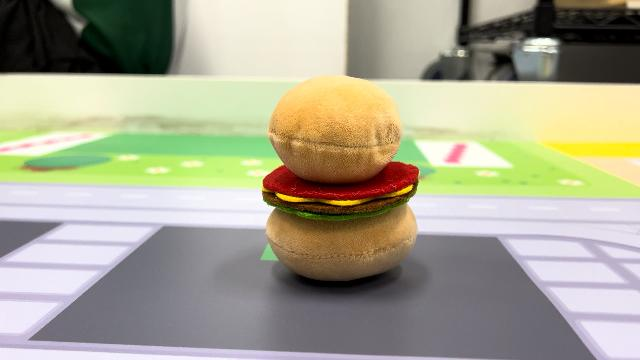burger: (258, 72, 424, 284)
